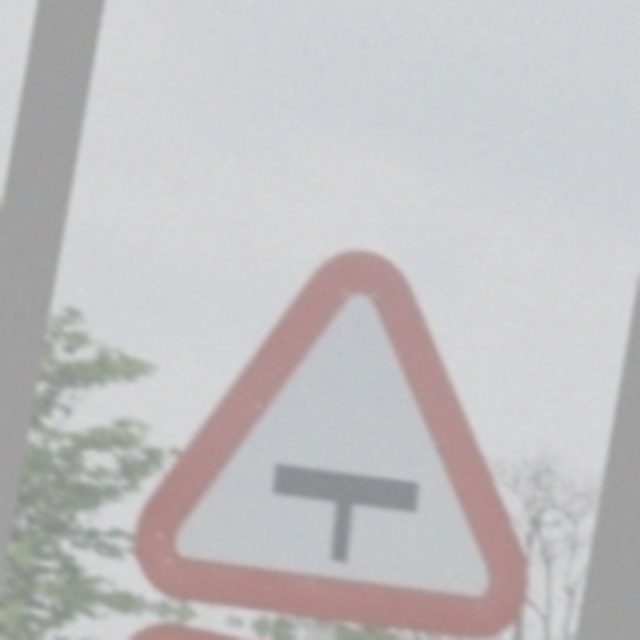T_Intersection: (135, 223, 578, 639)
